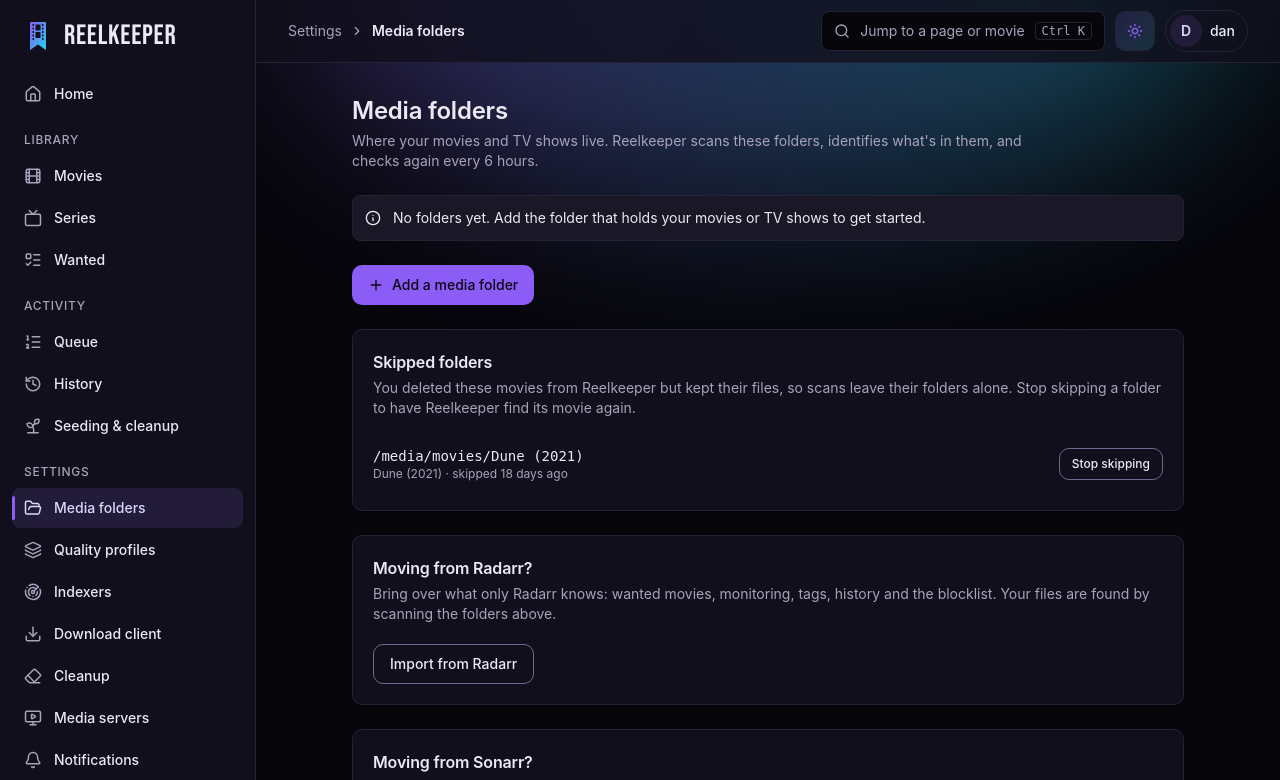
skipped folders card › lists skipped folders and stops skipping after a confirmation
Expected: the heading "Skipped folders" is shown, [373,352,492,372]
Expected: the text "/media/movies/Dune (2021)" is shown, [373,446,584,466]
Click the button "Stop skipping".
click(1111, 464)  # box [1059,448,1163,480]
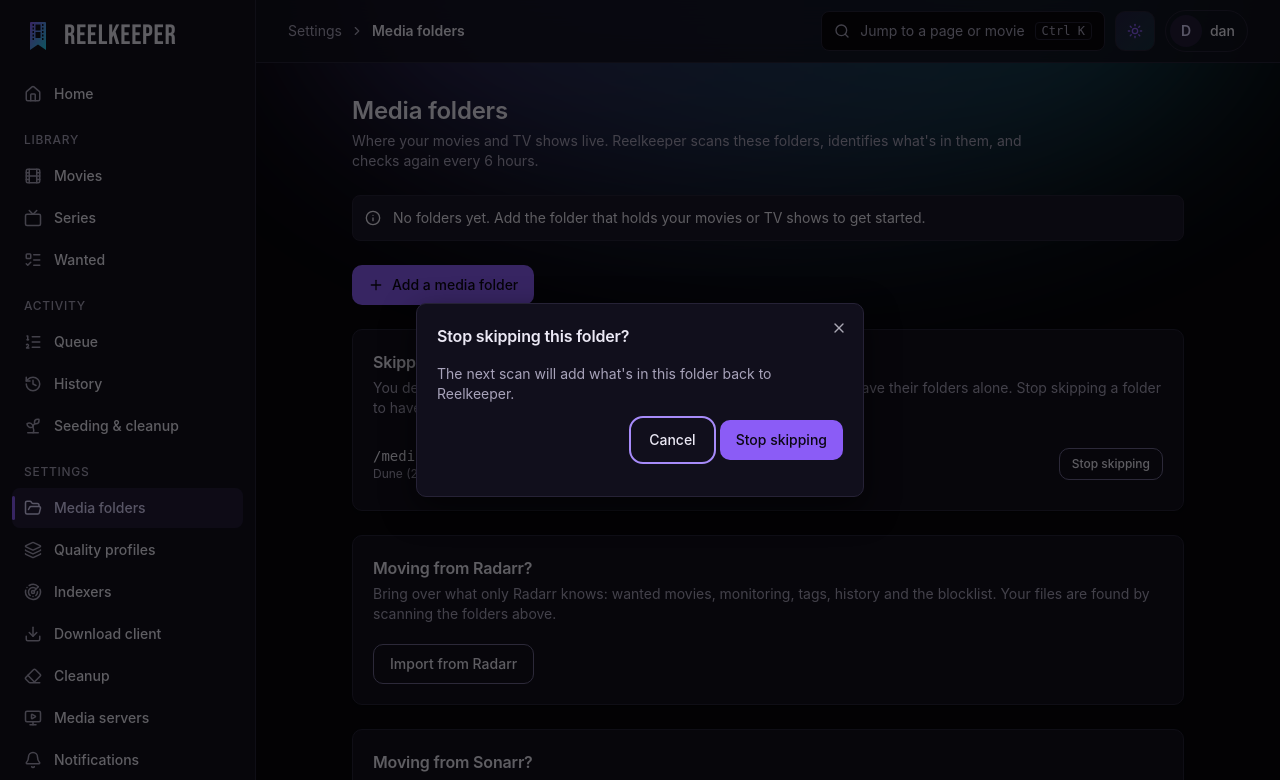
Expected: the text "The next scan will add what's in this folder back to Reelkeeper." is shown, [437,365,772,402]
Click the button "Stop skipping".
click(781, 440)  # box [720,420,843,460]
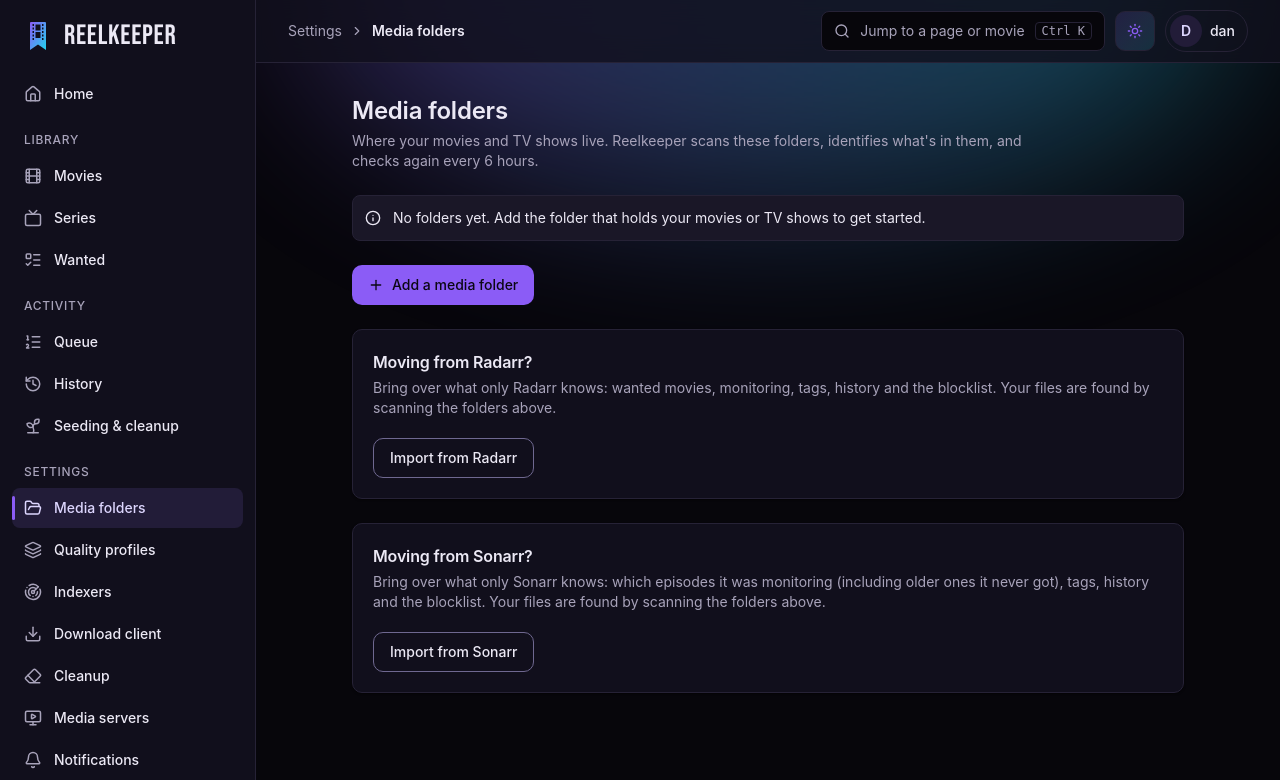
Expected: the heading "Skipped folders" is gone
